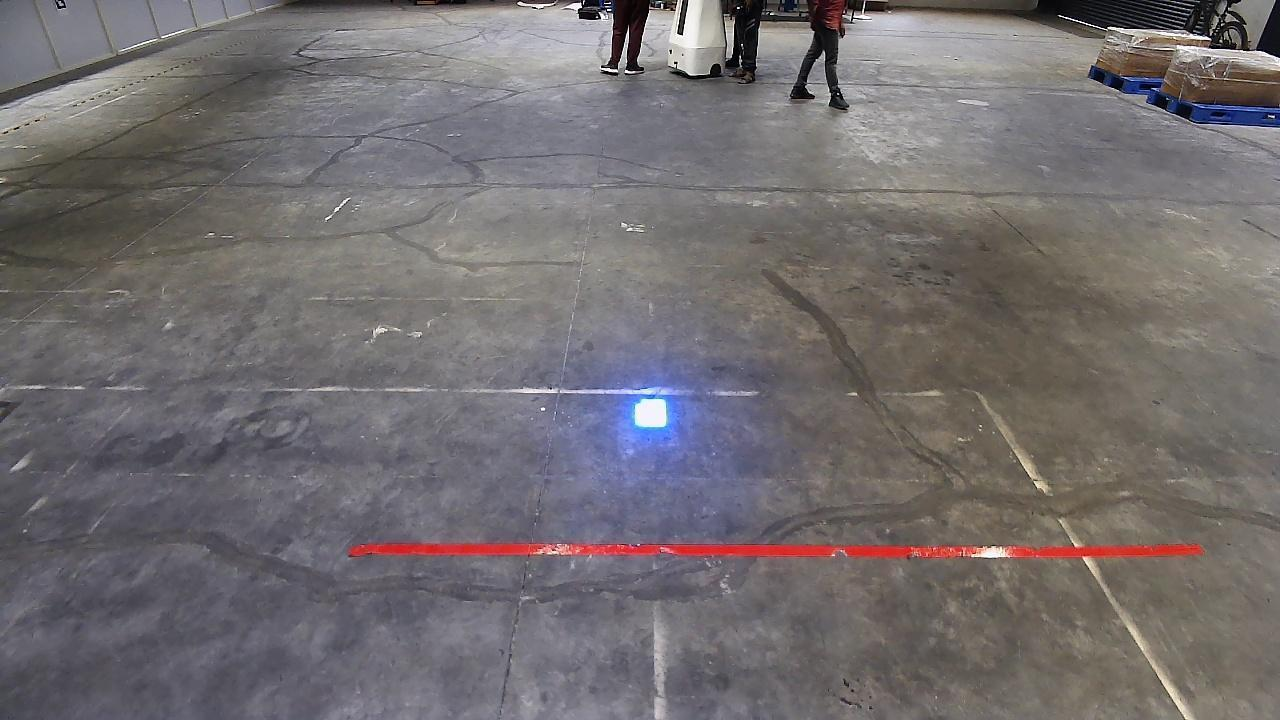red_line: (350, 541, 1204, 556)
